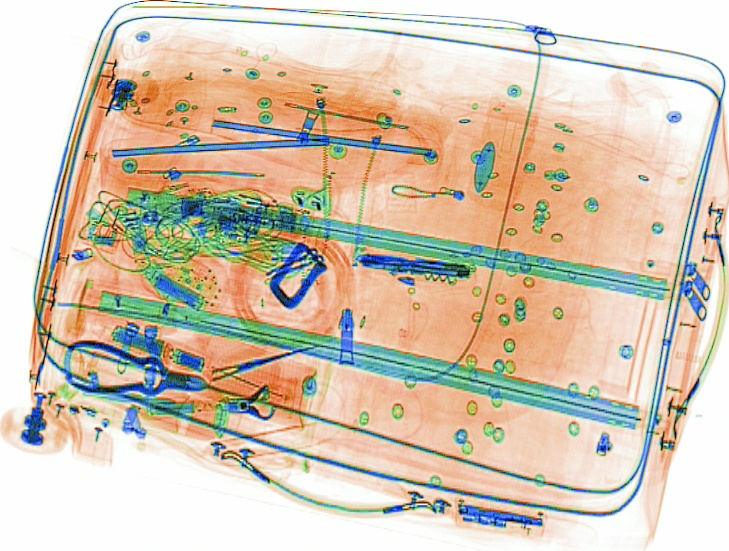knife: (355, 252, 471, 287)
scissors: (159, 342, 317, 416)
